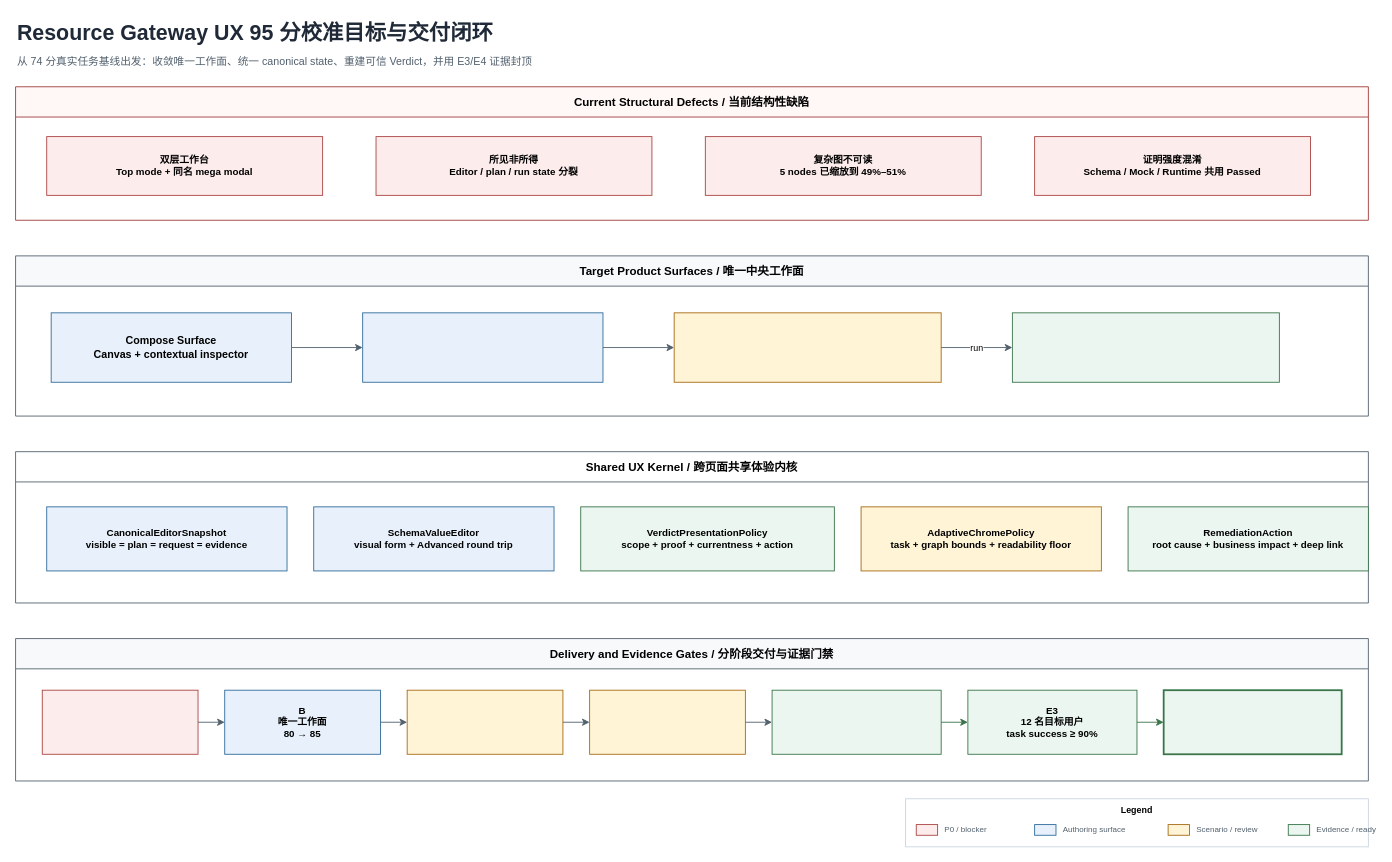
Image size: 1392x862. Some labels were removed from this diagram. The shapes that lost their labels are listed below. From the top down, each one's centre as x and y in pixels, then its label:
At (x=482, y=347): "Contract Surface Interface + semantics + lineage".
At (x=807, y=347): "Scenario Surface Given + controlled Dependencies + Then".
At (x=1145, y=347): "Evidence Surface Verdict + remediation + trace".
At (x=119, y=721): "A 可信度止血 74 → 80".
At (x=484, y=721): "C 统一 Scenario 85 → 90".
At (x=667, y=721): "D 复杂图可读 90 → 93".
At (x=856, y=721): "E 生命周期闭环 93 → 95 ready".
At (x=1252, y=722): "UX MATURITY ≥ 95 P0 / P1 = 0 E4 two releases".
